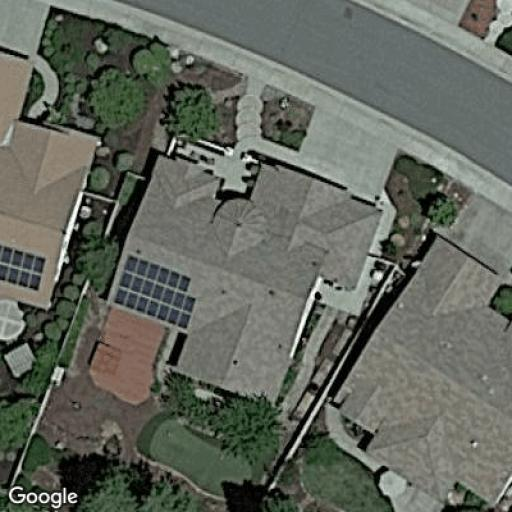solar-panel: (112, 253, 198, 331), (0, 243, 48, 294)
